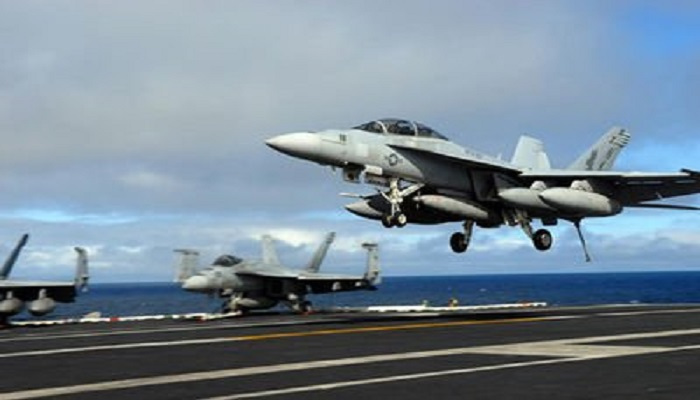airplane: (257, 100, 700, 249), (156, 220, 385, 312)
